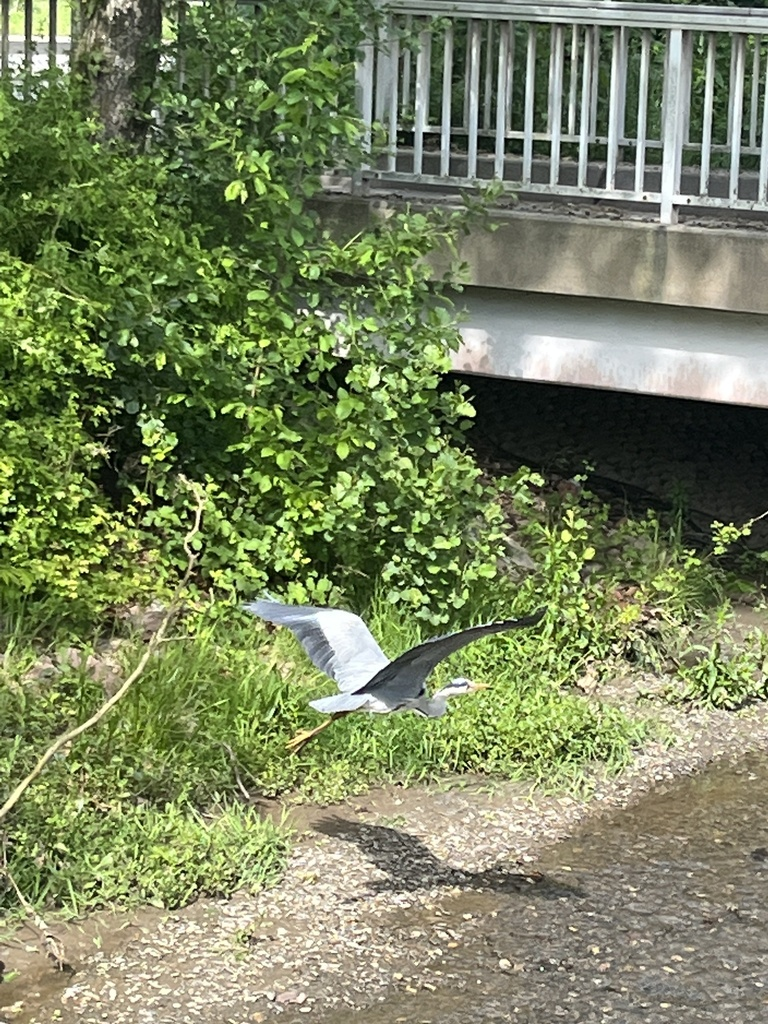heron: (230, 594, 549, 756)
